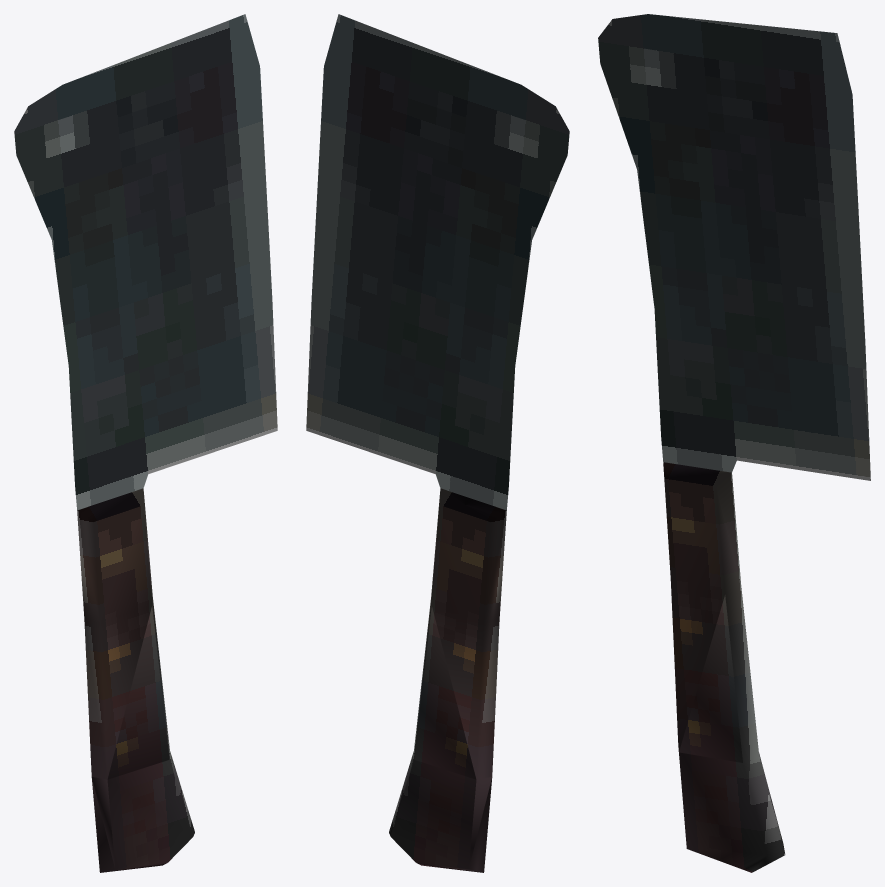
Rendered from Cleaver.fbx.
The picture shows the model from 3 angles, left to right: view 1: azimuth 30°, elevation 25°; view 2: azimuth 150°, elevation 25°; view 3: azimuth 330°, elevation 25°; orthographic projection. The views are drawn at different scales.
Parts seen in each view (by area): view 1: cleaver; view 2: cleaver; view 3: cleaver.
Part boxes in pixels (box(x1,y1,x2,y2)): cleaver: box(14, 14, 277, 872); cleaver: box(306, 14, 569, 872); cleaver: box(598, 14, 870, 872).
Size of the model in its own units: 12.32 by 37.13 by 1.23.
1 material, 1 textured.
